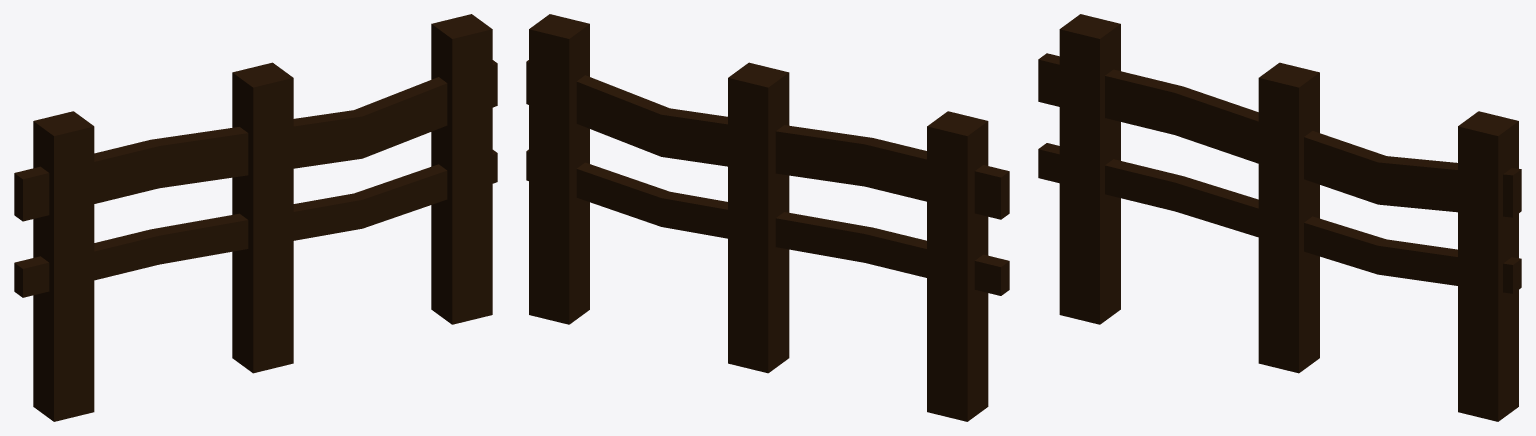
File: Fence.fbx
3 renders of one model, left to right at view 1: azimuth 30°, elevation 25°; view 2: azimuth 150°, elevation 25°; view 3: azimuth 330°, elevation 25°, orthographic.
Parts seen in each view (by area): view 1: Fence; view 2: Fence; view 3: Fence.
Part boxes in pixels (box(x1,y1,x2,y2)): Fence: box(14, 14, 497, 421); Fence: box(526, 14, 1009, 421); Fence: box(1038, 14, 1521, 421).
Size of the model in its own units: 153 by 87.88 by 11.6.
